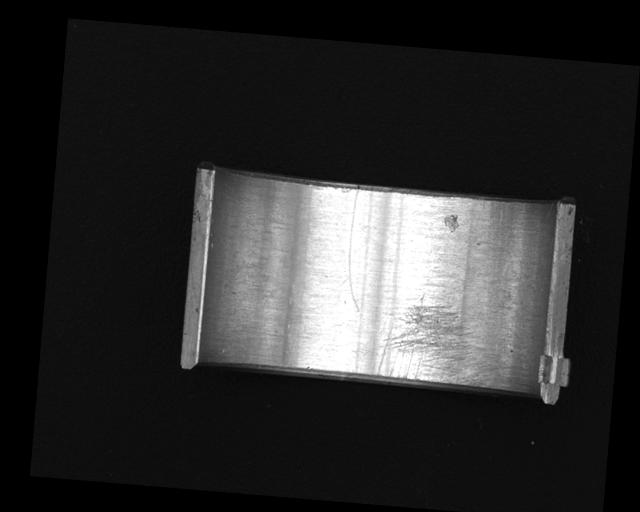bruise: (441, 212, 459, 232)
nick: (343, 186, 370, 313)
scratch: (371, 288, 492, 387)
